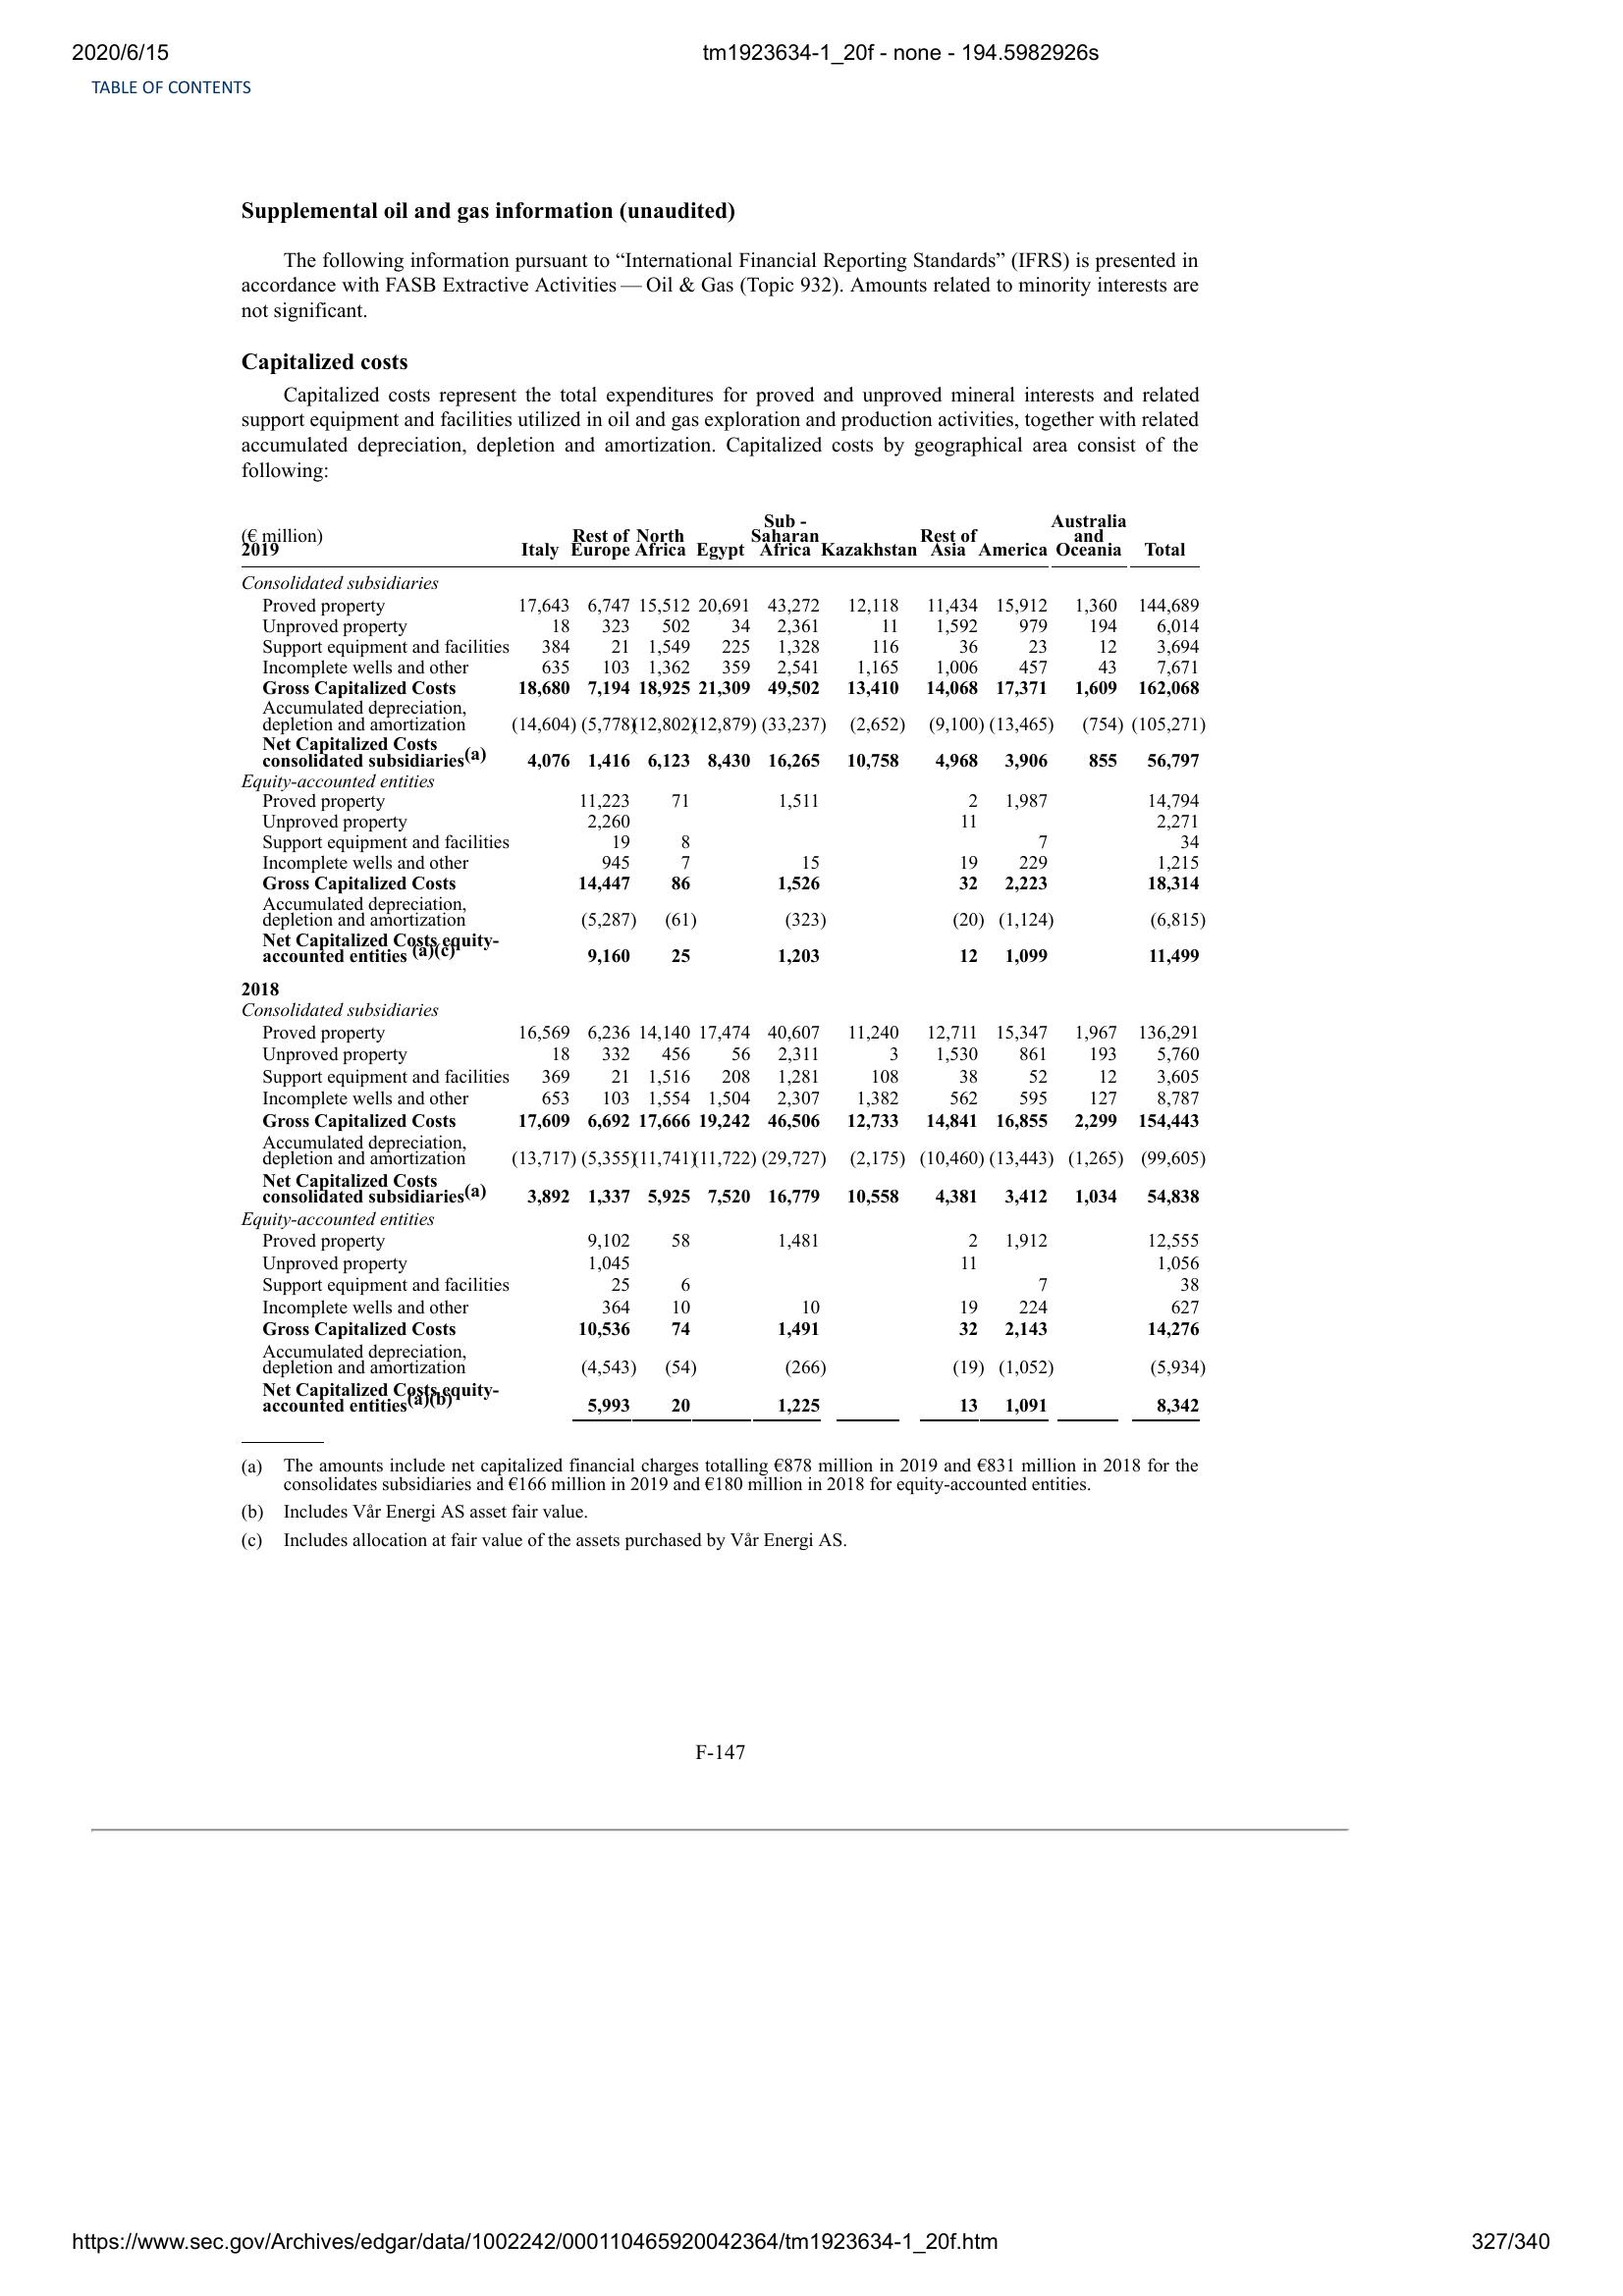table: (234, 509, 1215, 1427)
